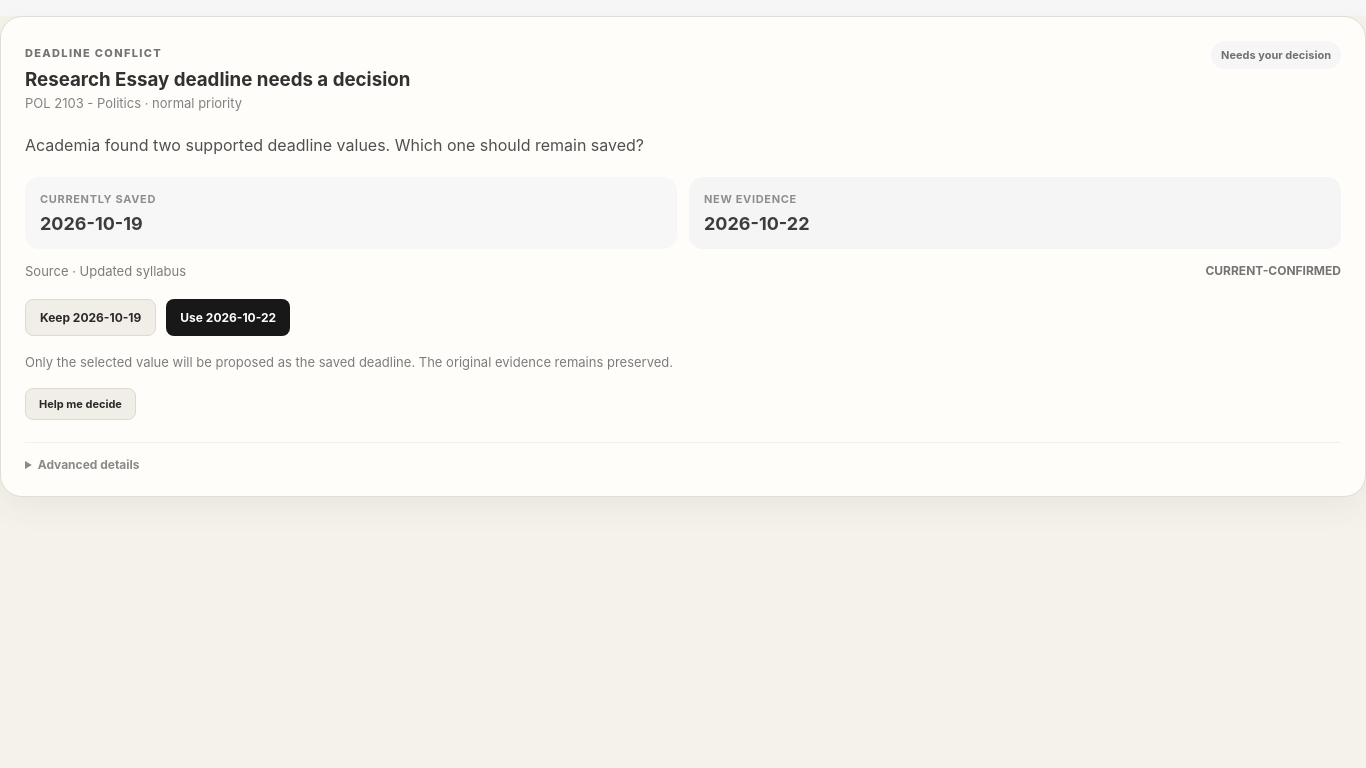
Test: ReviewCard › renders the advanced evidence payload without executing anything
Click the heading "Advanced details" at (89, 464), box [38,457,140,472]
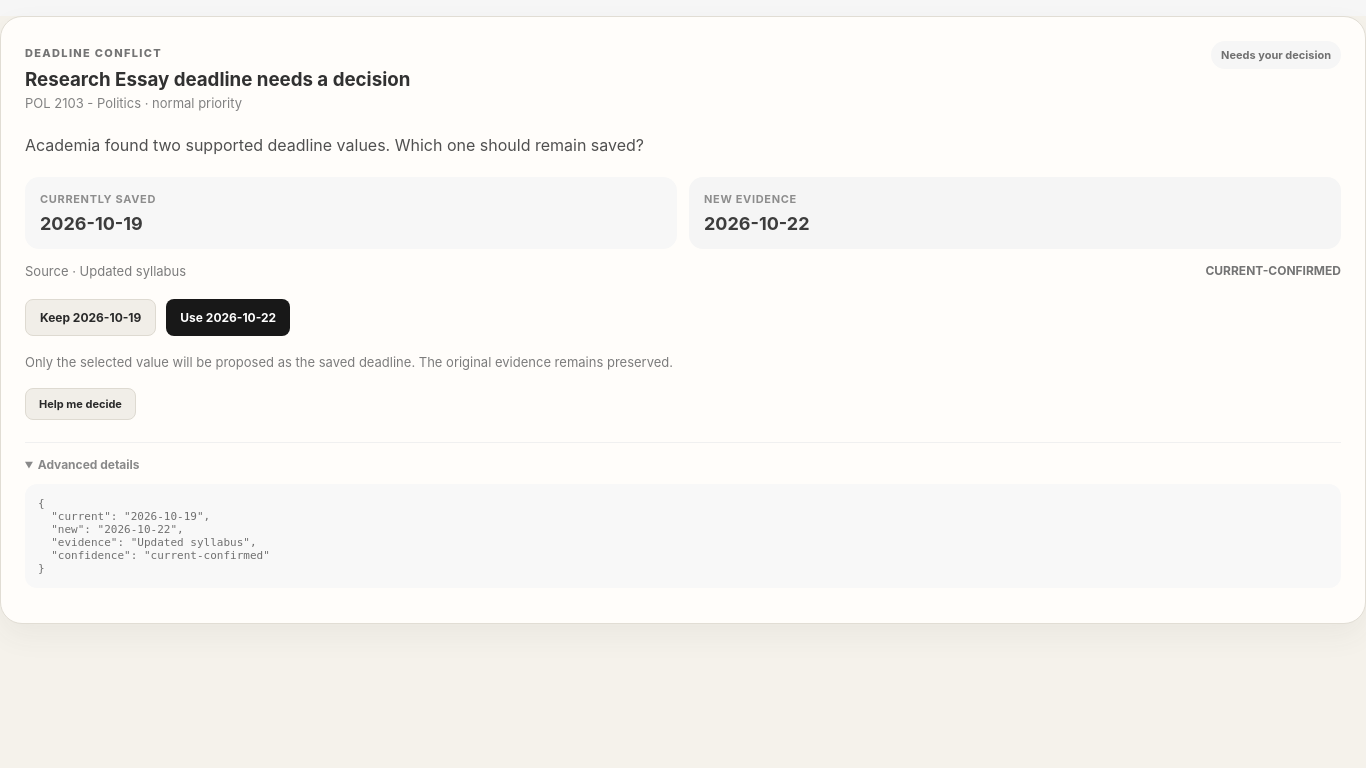
Check: the text "\"current\": \"2026-10-19\"" is shown, box [38,497,270,575]
